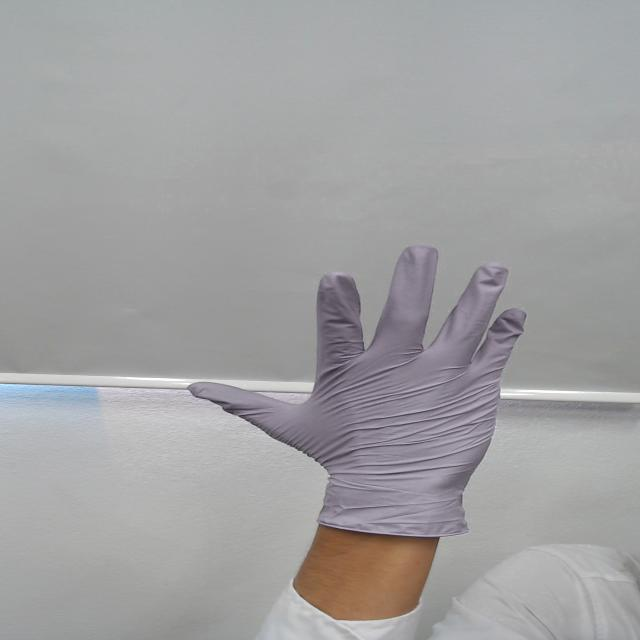glove: (152, 225, 562, 490)
